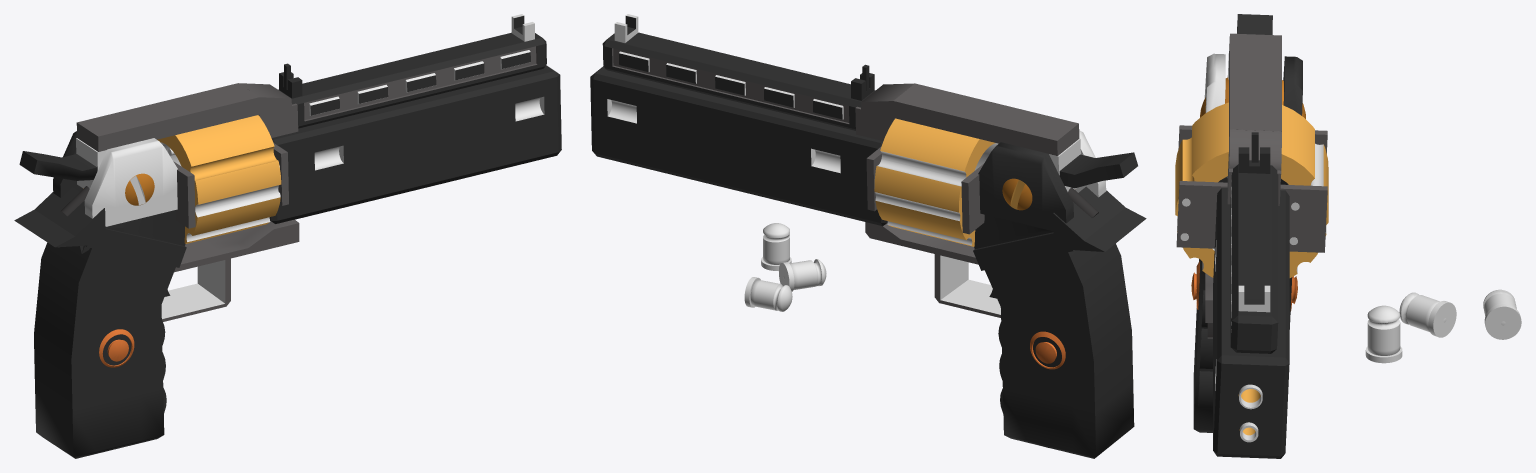
The model's file is Revolver.fbx.
3 renders of one model, left to right at view 1: azimuth 30°, elevation 25°; view 2: azimuth 150°, elevation 25°; view 3: azimuth 270°, elevation 25°, orthographic. The views are drawn at different scales.
Visible parts, largest first — view 1: Cube_2_2, Cube_11_2, Cube_11_4, Cylinder_3_14, Cube_6, Cube_13, Cube_5, Clip_Base, Cube_12_2, Cube_16, Cube_4, Cube_1 (+13 smaller); view 2: Cube_2_2, Cube_11_2, Cube_11_4, Cylinder_3_14, Cube_6, Cube_12, Cube_5, Cube_13_2, Cube_16, Cube_4, Cube_1, Clip_Base (+12 smaller); view 3: Cube_11_2, Cube_11_4, Cylinder_3_14, Cube_6, Cube_8, Cube_2_2, Oil_Tank, Cube_9, Cube_13, Cylinder_2_3, Cube_12, Oil_Tank_3 (+11 smaller).
Part boxes in pixels (x1,y1,x2,y2): Cube_2_2: [34, 242, 175, 458]; Cube_11_2: [269, 65, 561, 223]; Cube_11_4: [278, 32, 546, 128]; Cylinder_3_14: [157, 115, 281, 243]; Cube_6: [76, 83, 259, 151]; Cube_13: [84, 138, 177, 226]; Cube_5: [14, 187, 105, 247]; Clip_Base: [174, 219, 299, 272]; Cube_12_2: [304, 46, 537, 121]; Cube_16: [161, 260, 225, 318]; Cube_4: [85, 228, 186, 267]; Cube_1: [19, 151, 97, 180]; Cube_2_2: [985, 243, 1134, 458]; Cube_11_2: [590, 66, 887, 226]; Cube_11_4: [602, 32, 875, 130]; Cylinder_3_14: [874, 118, 995, 246]; Cube_6: [893, 83, 1079, 155]; Cube_12: [978, 142, 1073, 231]; Cube_5: [1053, 186, 1146, 251]; Cube_13_2: [612, 48, 849, 123]; Cube_16: [940, 255, 1000, 314]; Cube_4: [973, 232, 1074, 270]; Cube_1: [1059, 152, 1137, 188]; Clip_Base: [865, 222, 978, 264]; Cube_11_2: [1213, 188, 1289, 458]; Cube_11_4: [1230, 164, 1278, 353]; Cylinder_3_14: [1175, 102, 1328, 277]; Cube_6: [1229, 33, 1281, 145]; Cube_8: [1176, 181, 1327, 252]; Cube_2_2: [1193, 259, 1292, 432]; Oil_Tank: [1367, 305, 1400, 355]; Cube_9: [1229, 129, 1281, 170]; Cube_13: [1204, 53, 1225, 112]; Cylinder_2_3: [1484, 304, 1521, 339]; Cube_12: [1283, 56, 1302, 115]; Oil_Tank_3: [1399, 292, 1446, 331].
Size of the model in its own units: 546 by 320 by 256.
